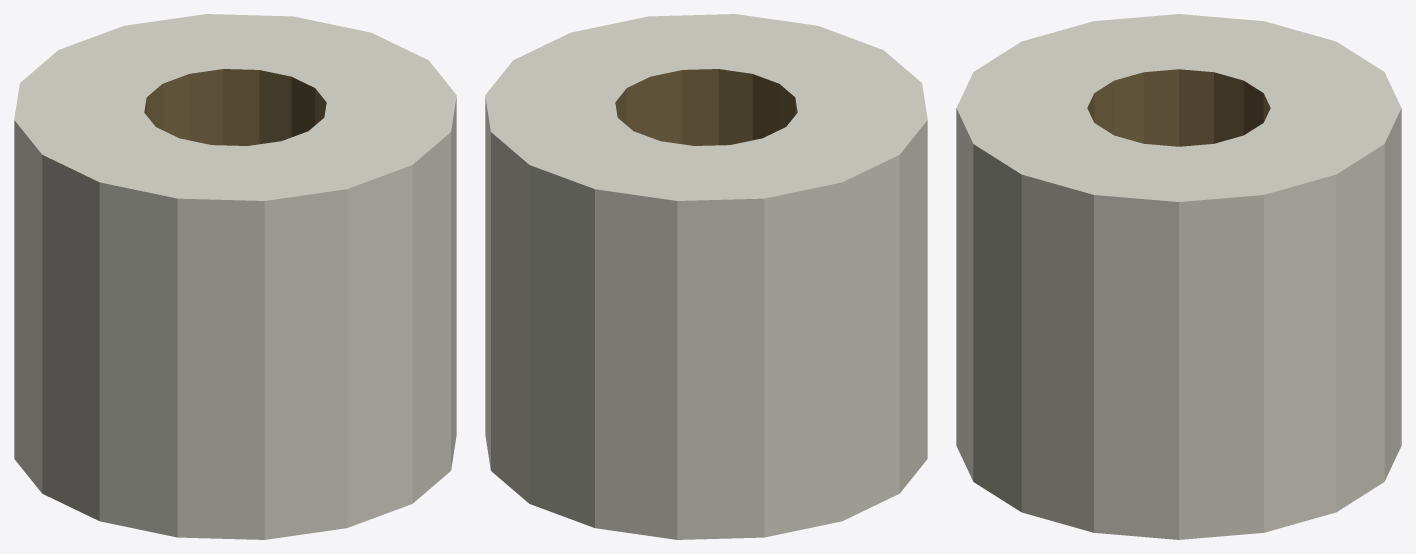
The model's file is toilet_paper.fbx.
The picture shows the model from 3 angles, left to right: view 1: azimuth 30°, elevation 25°; view 2: azimuth 150°, elevation 25°; view 3: azimuth 270°, elevation 25°; orthographic projection.
Parts seen in each view (by area): view 1: Cylinder; view 2: Cylinder; view 3: Cylinder.
Part boxes in pixels (bbox=[...]): Cylinder: bbox=[14, 14, 456, 539]; Cylinder: bbox=[485, 14, 927, 539]; Cylinder: bbox=[956, 14, 1401, 539].
Bounding box in the file's own units: 33.05 × 27.69 × 33.05.
